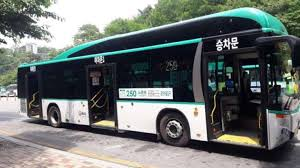out: (196, 9, 298, 155)
